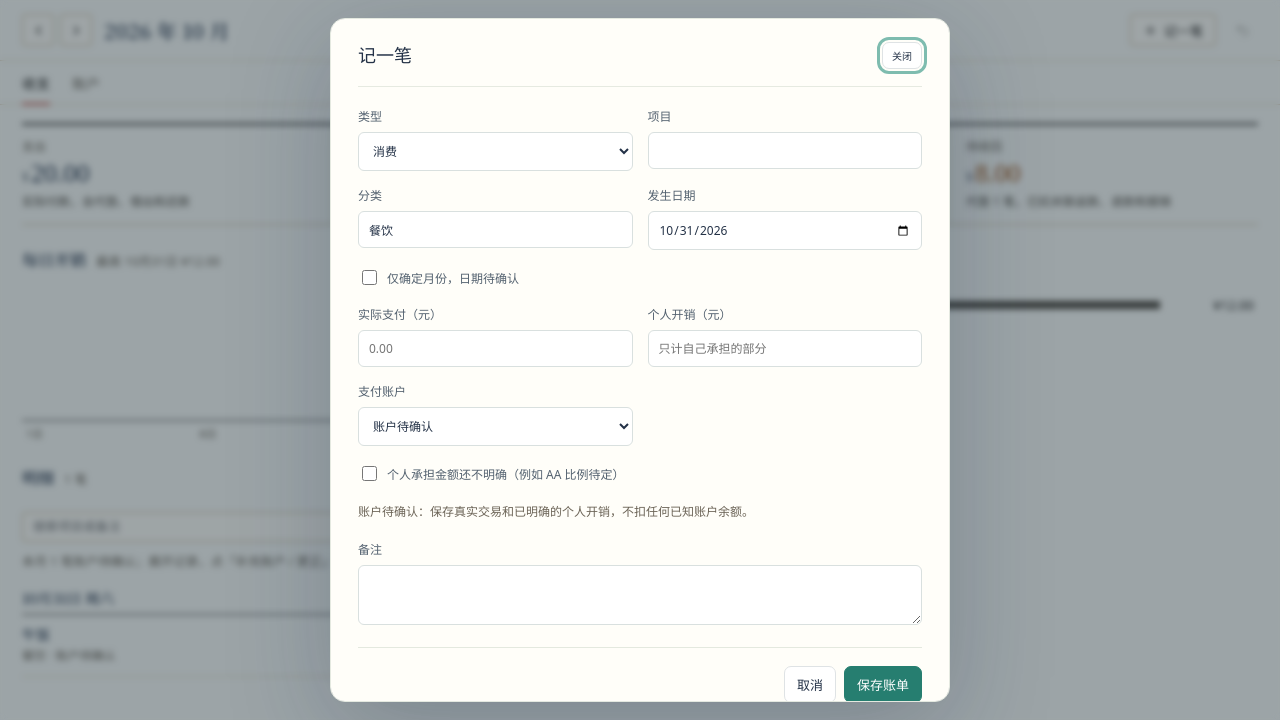
Test case: local ledger UI › keeps a validation error in the open editor when a changed-event refresh succeeds after the failed save
Expected: the button with aria-label "查看餐饮明细 ¥12.00" is shown, [819, 291, 1258, 320]
Type "合成金额校验" into the field labelled "项目". click: (785, 150)
box: [648, 132, 922, 169]
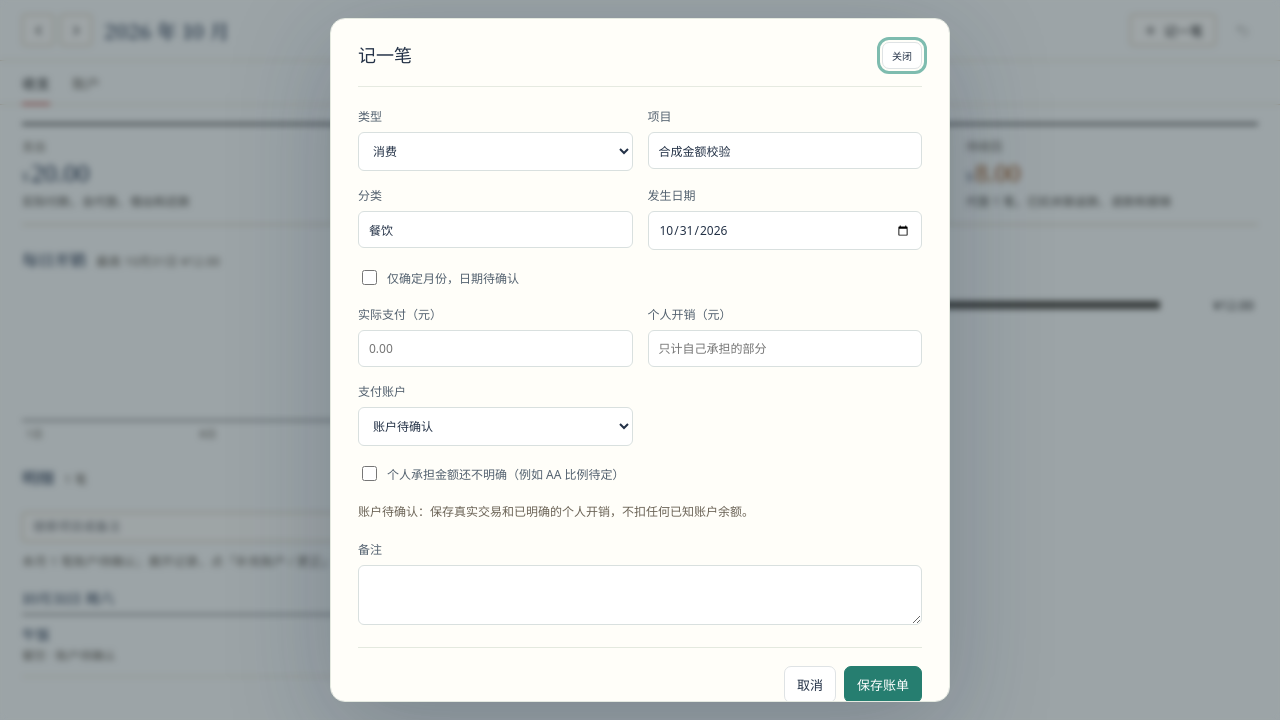
Type "18.50" into the field labelled "实际支付（元）". click: (495, 348)
box: [358, 330, 632, 367]
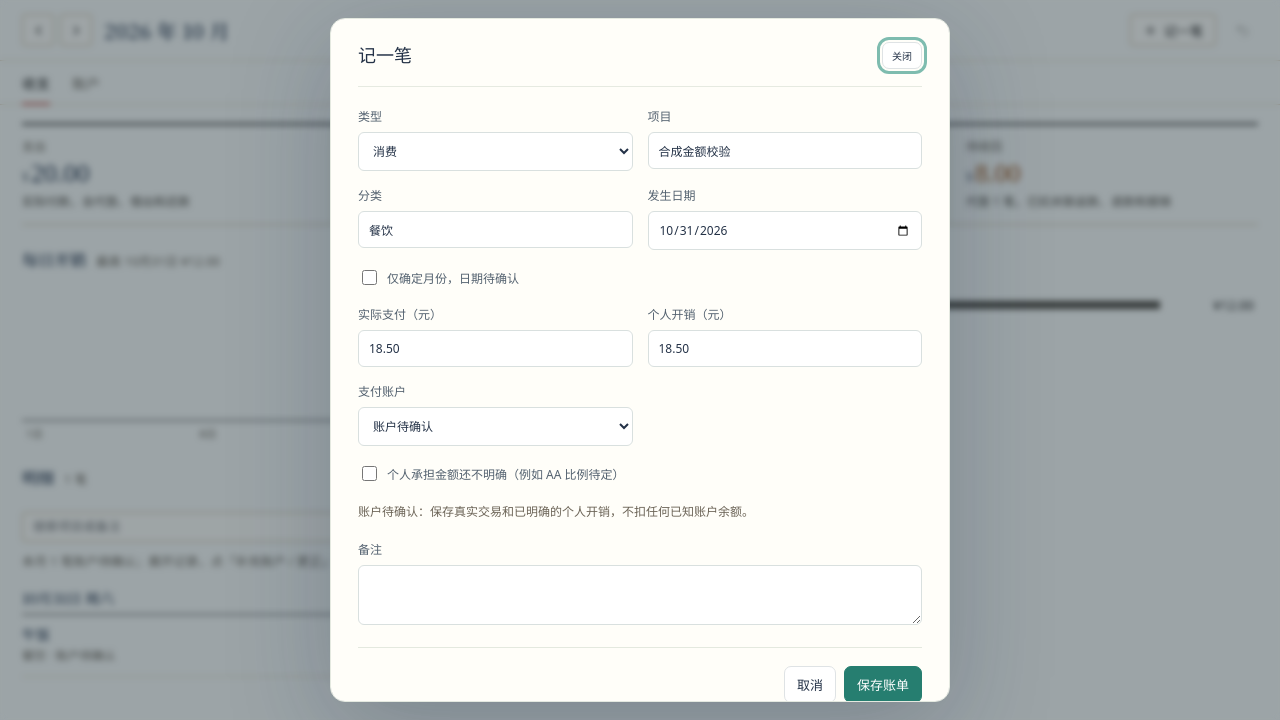
Click the button "保存账单". click: (883, 685)
box: [844, 666, 922, 703]
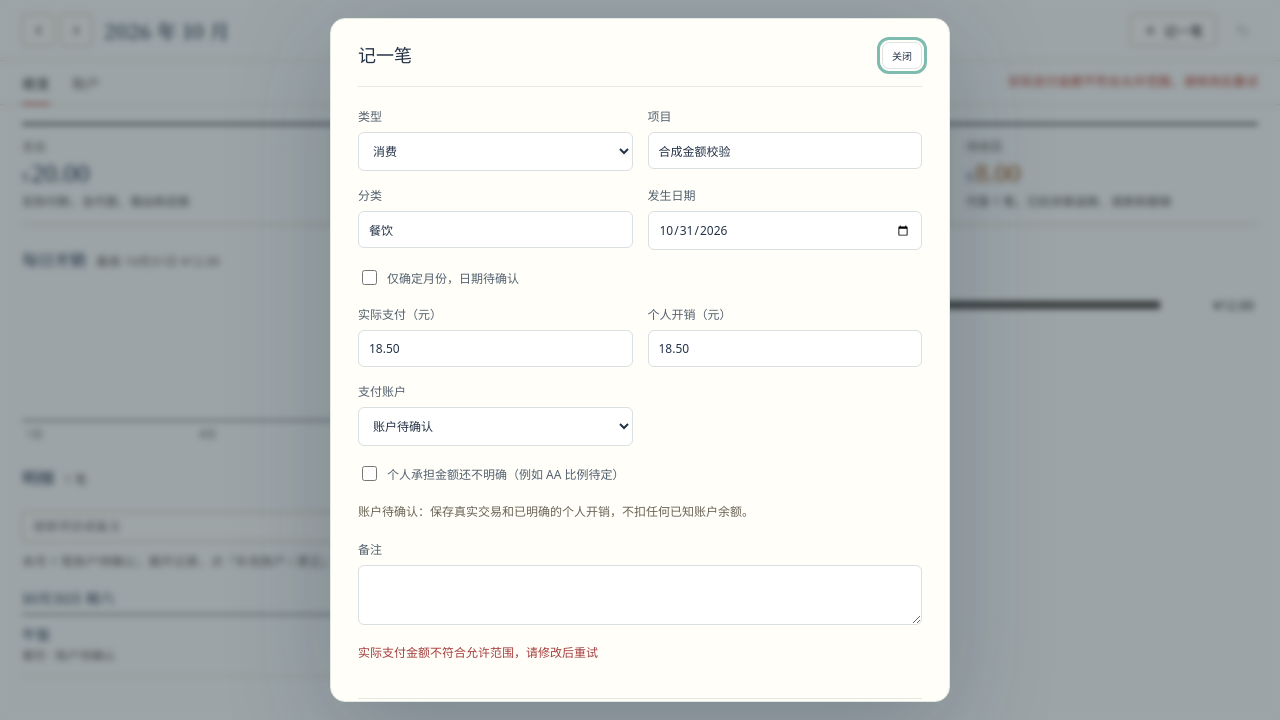
Result: the message reads "实际支付金额不符合允许范围，请修改后重试" at [358, 644, 598, 661]
